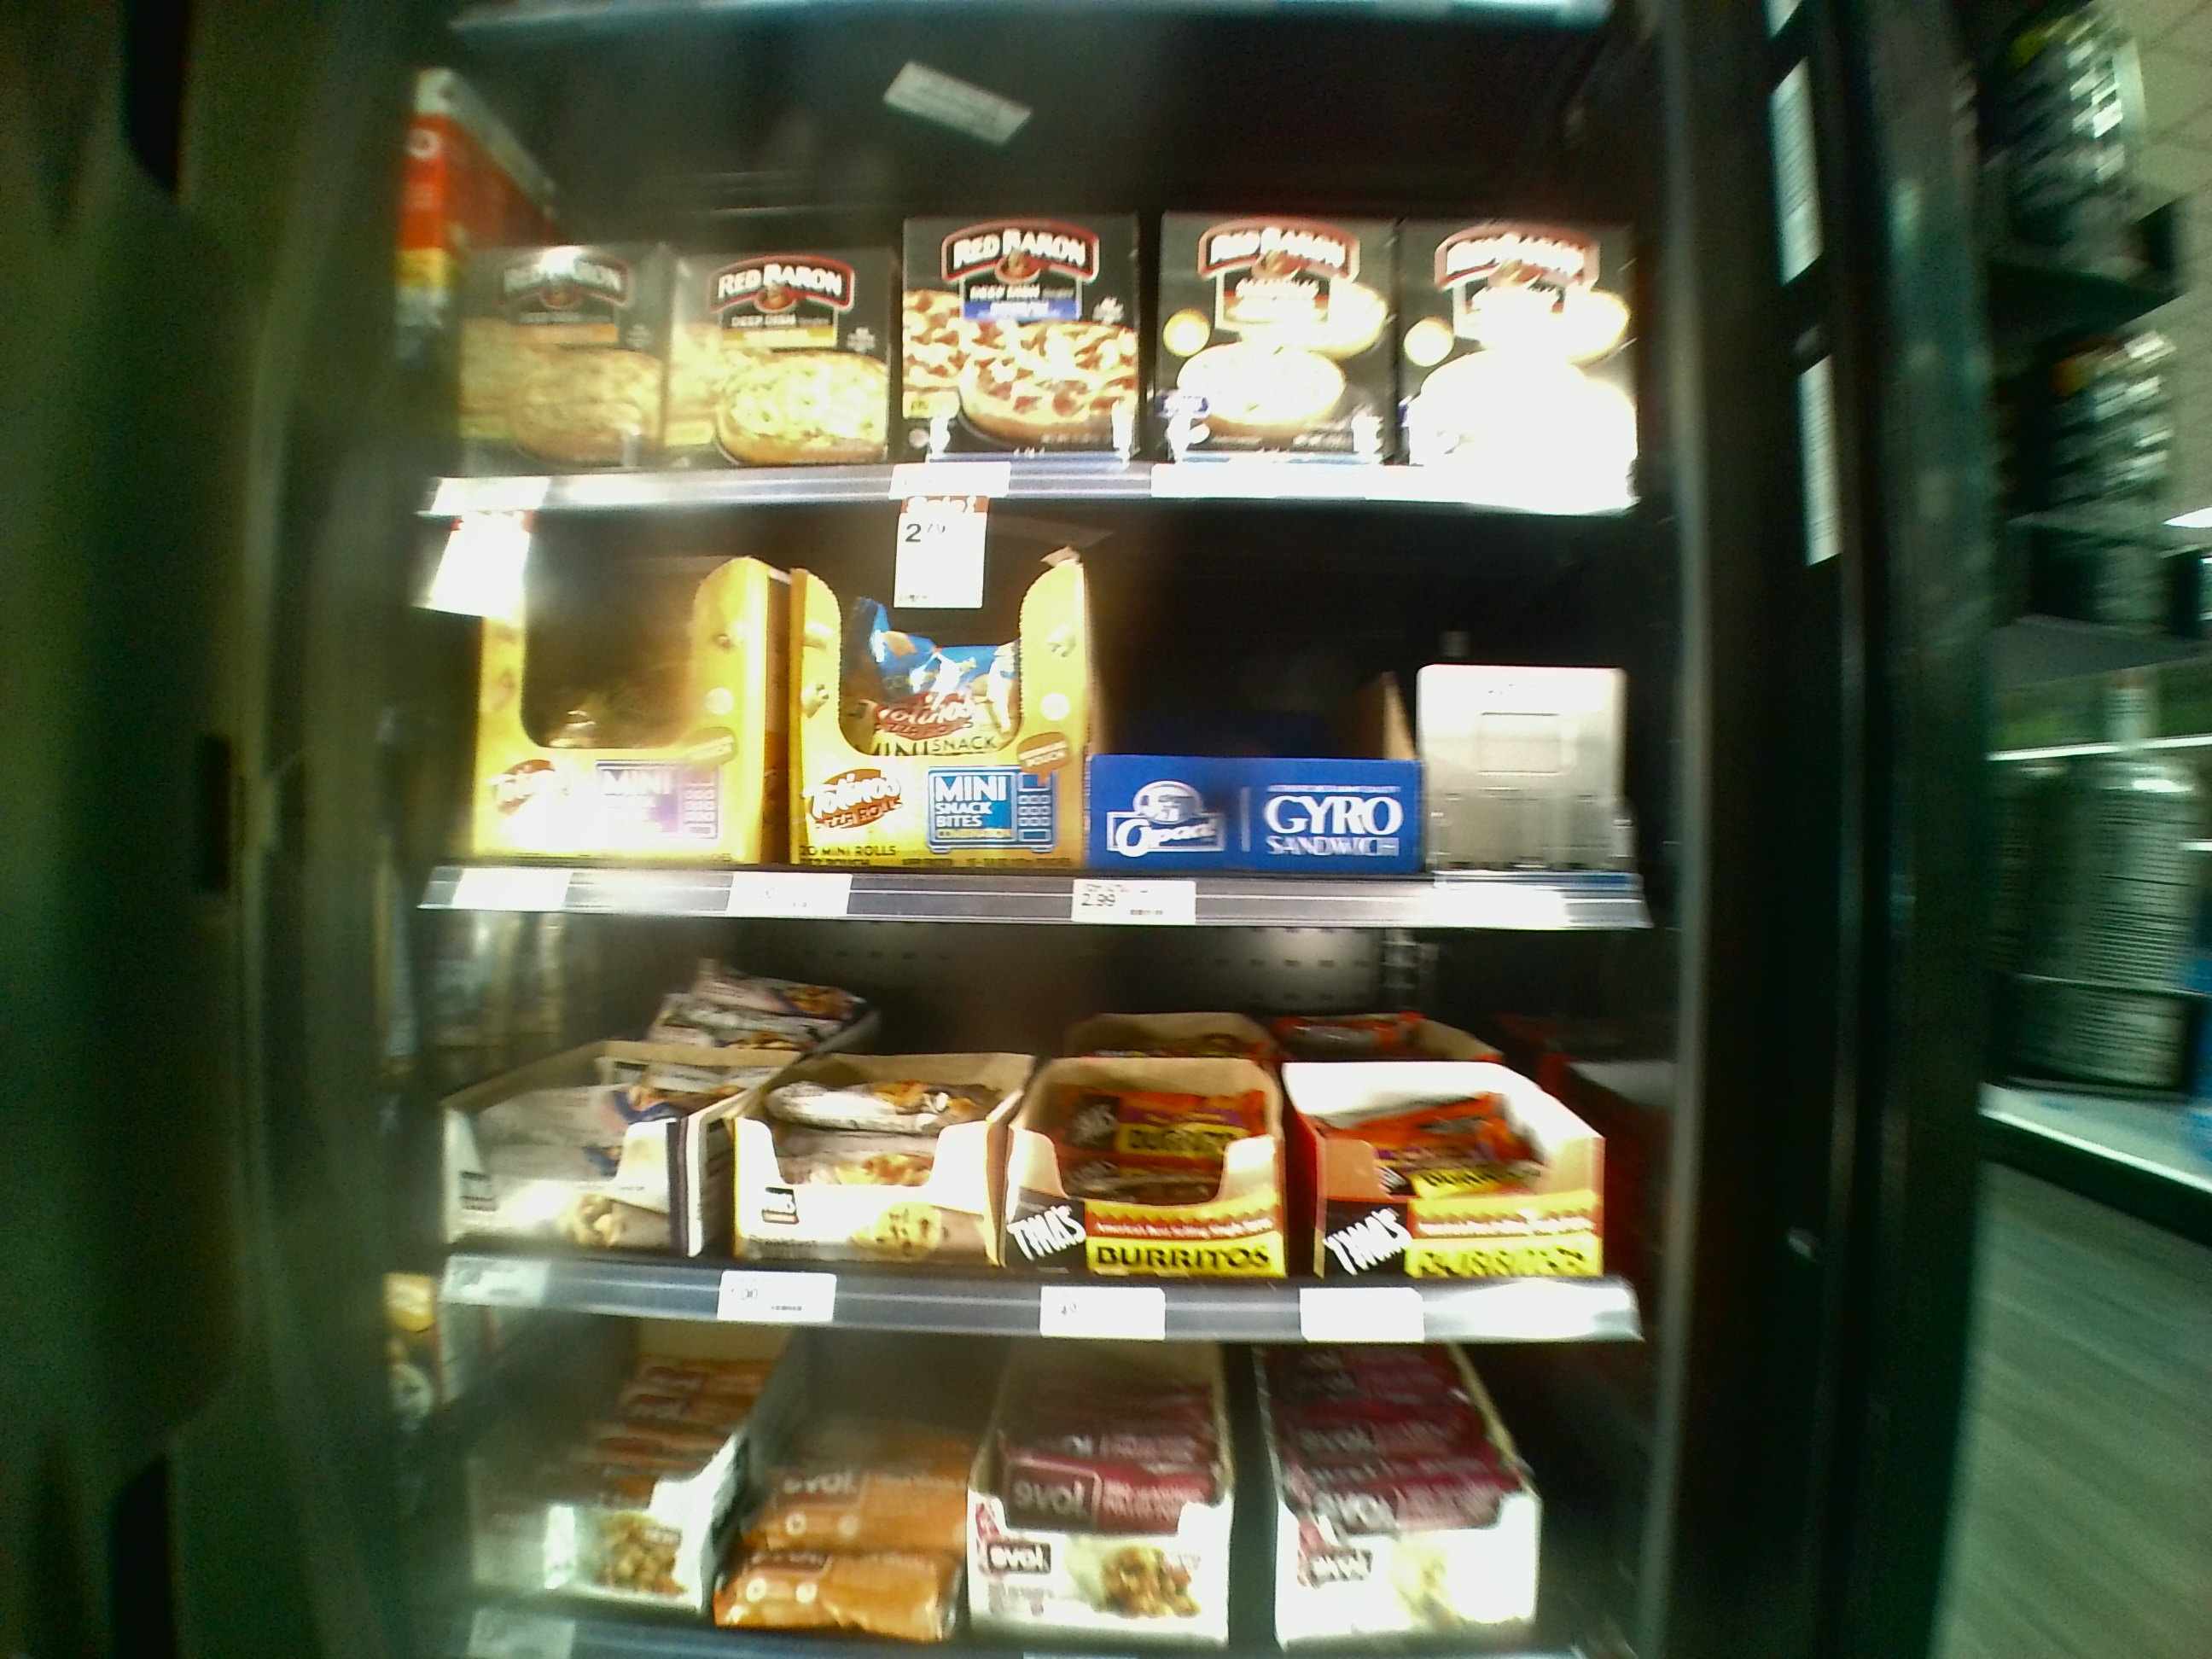shelf: (456, 52, 1648, 511), (448, 915, 1656, 1349), (446, 523, 1660, 936)
